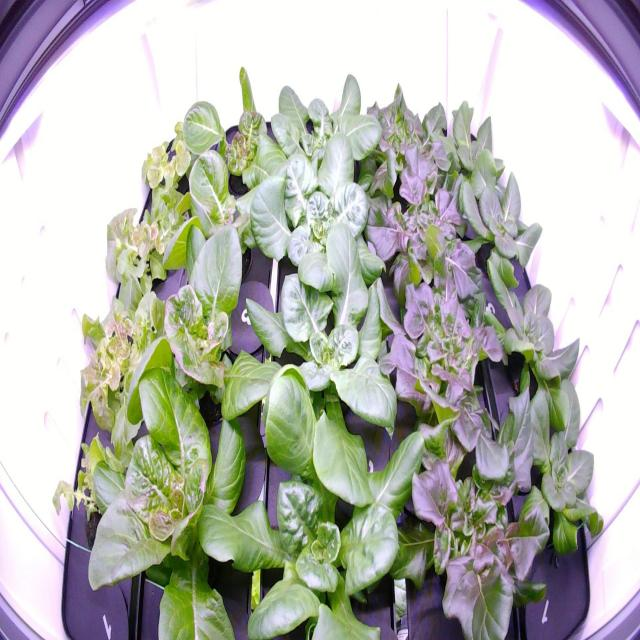young: (192, 350, 448, 638), (76, 336, 310, 636), (228, 212, 412, 452), (112, 212, 290, 445), (240, 116, 394, 302), (482, 356, 614, 572), (145, 137, 300, 303), (176, 52, 295, 217), (467, 251, 589, 403), (257, 56, 385, 193), (448, 160, 549, 286), (430, 91, 510, 188)
